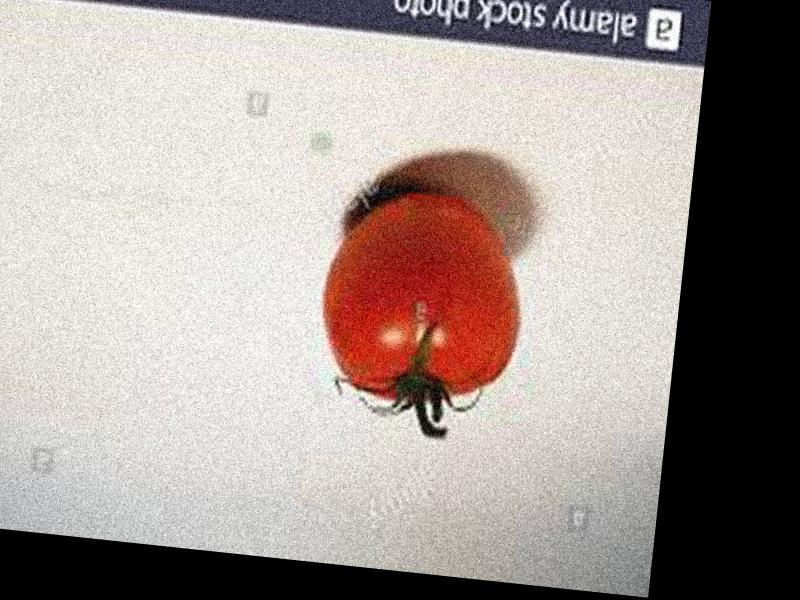Tomato: (314, 180, 530, 409)
